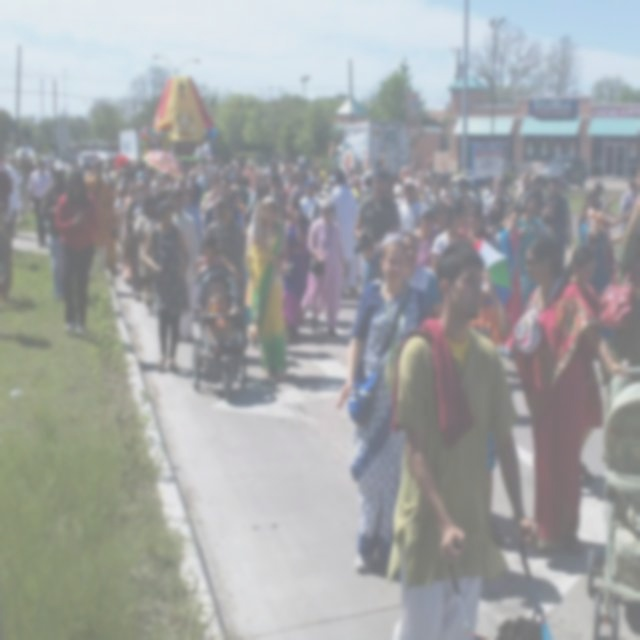pessoa: (381, 231, 545, 639), (348, 130, 640, 343), (506, 225, 632, 560), (336, 230, 428, 577), (1, 125, 186, 240), (548, 239, 610, 486), (184, 120, 350, 209), (242, 192, 296, 384), (139, 196, 192, 377), (52, 168, 100, 340), (352, 165, 402, 292), (306, 195, 349, 340), (280, 193, 314, 347), (171, 186, 200, 344), (400, 229, 444, 330), (40, 158, 70, 302), (328, 164, 360, 297), (84, 156, 116, 271), (120, 177, 149, 303), (198, 194, 243, 272), (132, 195, 160, 316), (203, 286, 243, 356), (201, 174, 245, 236), (26, 156, 54, 250), (592, 341, 640, 394), (194, 232, 240, 282), (104, 238, 138, 288), (245, 268, 261, 354), (298, 178, 322, 224), (0, 153, 14, 179)
